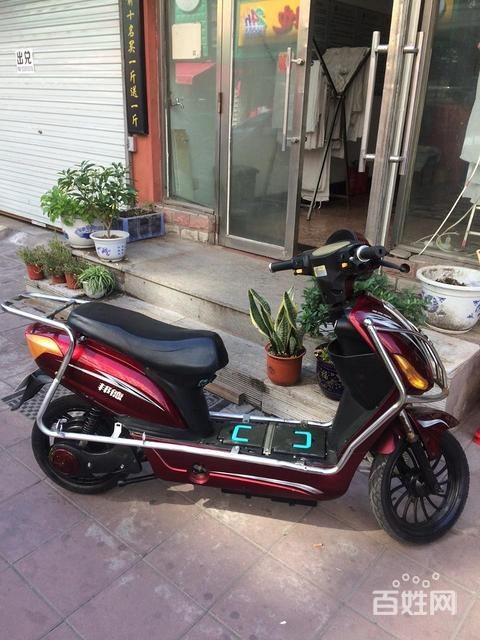电动车: (11, 222, 480, 557)
